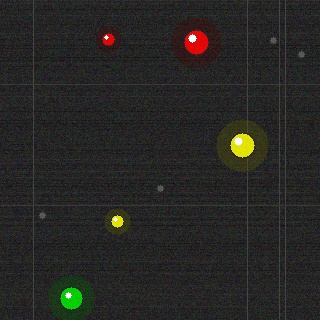green_normal: (58, 285, 84, 311)
red_fault: (182, 28, 210, 56), (100, 31, 116, 47)
yellow_warning: (228, 131, 256, 159), (109, 213, 125, 229)
